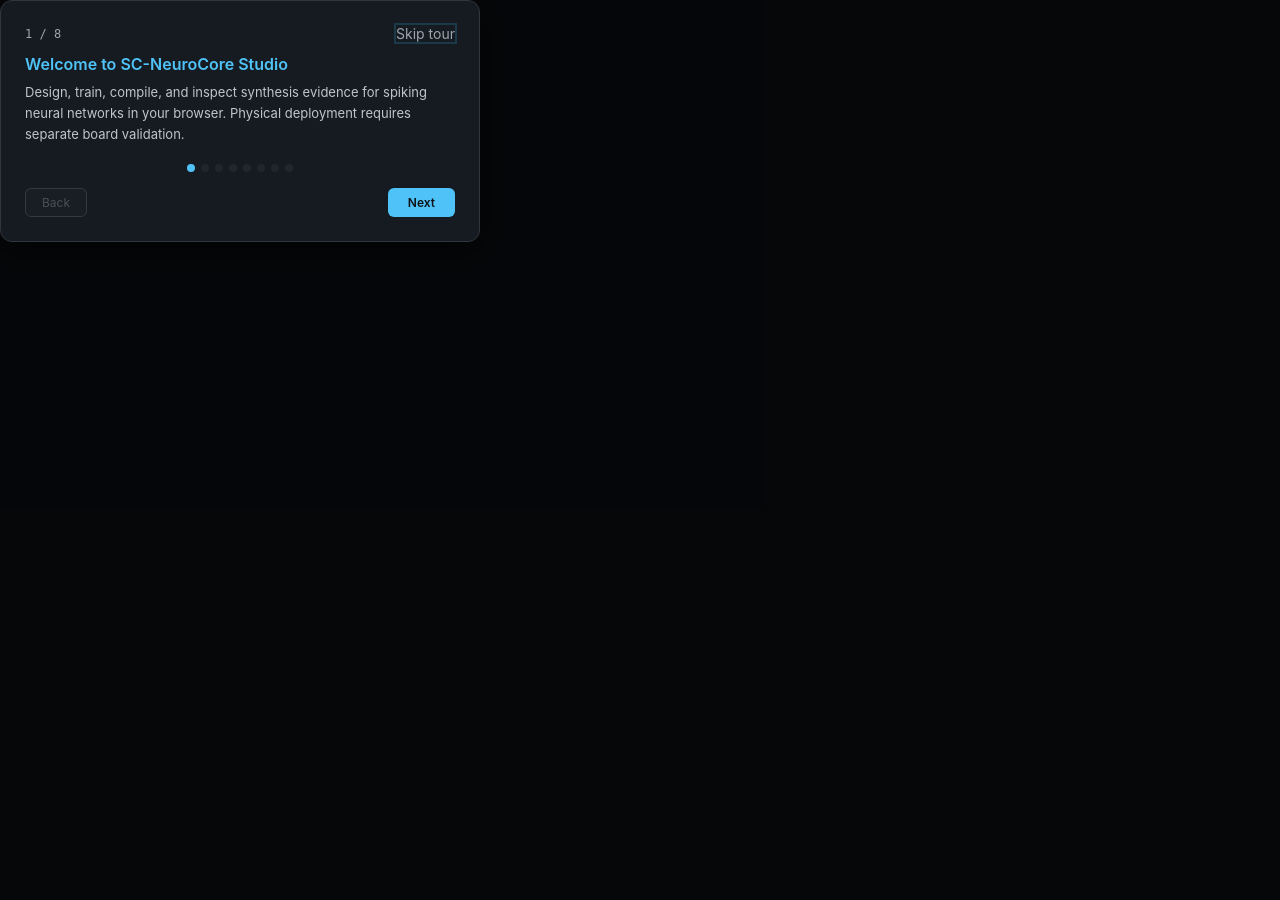
Test: OnboardingOverlay › names the number of models the catalogue delivered
The image size is (1280, 900).
What coordinates should you click on to do the following:
click the button "Next"
I would click on:
 (421, 203)
Its box is [388,188,455,217].
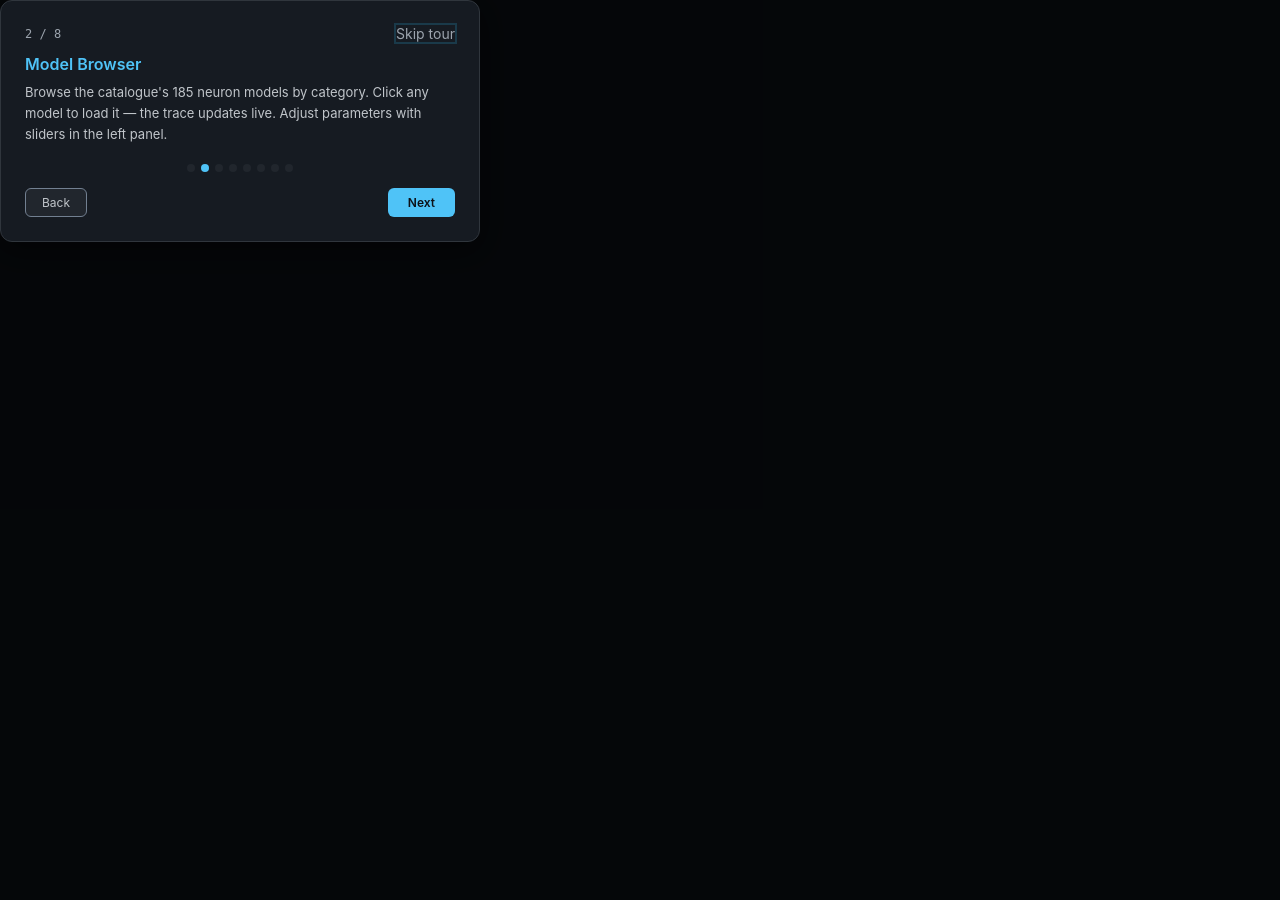
Expected: the heading "Model Browser" is shown, [25,54,141,74]
Expected: the text "Browse the catalogue's 185 neuron models by category." is shown, [25,84,429,142]
